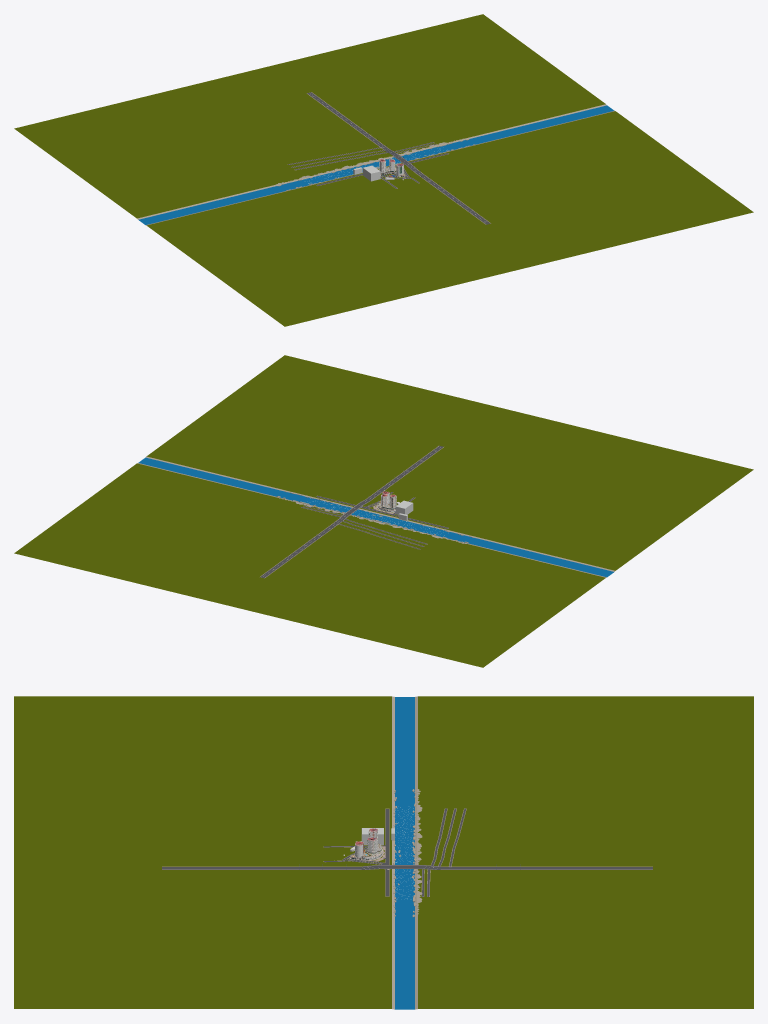
File: shahrofar.glb
The picture shows the model from 3 angles, top to bottom: view 1: azimuth 30°, elevation 25°; view 2: azimuth 150°, elevation 25°; view 3: azimuth 270°, elevation 25°; orthographic projection. The views are drawn at different scales.
Parts seen in each view (by area): view 1: Site ground, Avenue and bridge; view 2: Site ground, Avenue and bridge; view 3: Site ground, Avenue and bridge.
Part boxes in pixels (box(x1,y1,x2,y2)): Site ground: box(14, 14, 753, 326); Avenue and bridge: box(307, 92, 490, 224); Site ground: box(14, 355, 753, 667); Avenue and bridge: box(260, 445, 443, 578); Site ground: box(14, 696, 753, 1009); Avenue and bridge: box(162, 863, 652, 869).
Bounding box in the file's own units: 3000 × 92.19 × 3000.
